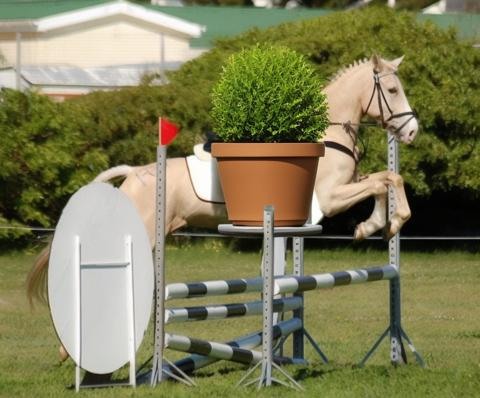horse: (28, 54, 429, 329)
pottedplant: (211, 40, 331, 237)
